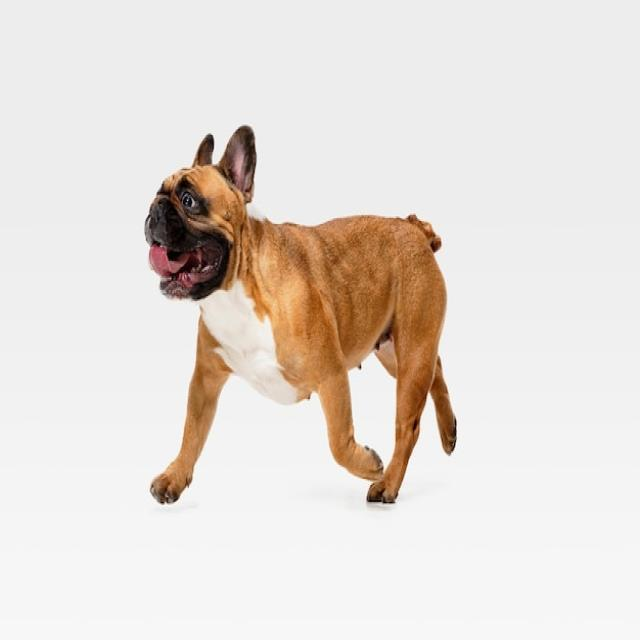Dog: (144, 123, 457, 506)
